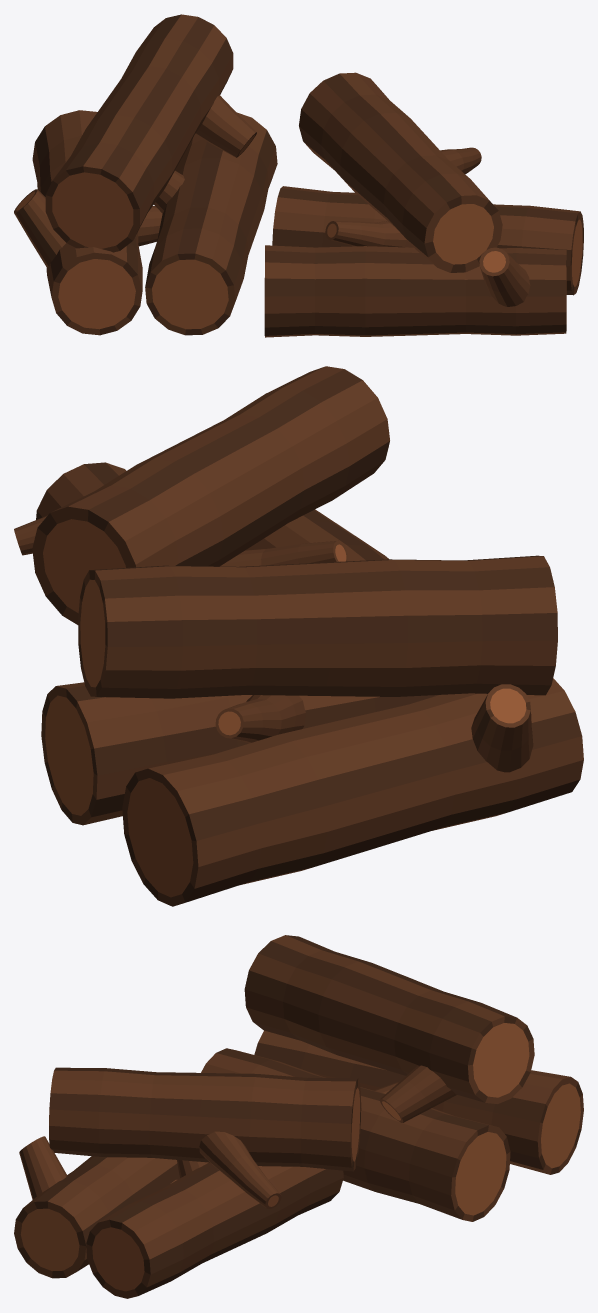
File: PlanksMix.fbx
The picture shows the model from 3 angles, top to bottom: view 1: azimuth 30°, elevation 25°; view 2: azimuth 150°, elevation 25°; view 3: azimuth 270°, elevation 25°; orthographic projection. The views are drawn at different scales.
Parts seen in each view (by area): view 1: Cylinder.008; view 2: Cylinder.008; view 3: Cylinder.008.
Boxes of the visible parts, x1,y1,x2,y2 form: Cylinder.008: [14, 14, 583, 337]; Cylinder.008: [14, 366, 583, 906]; Cylinder.008: [14, 935, 583, 1298].
Bounding box in the file's own units: 186 × 73.2 × 200.
